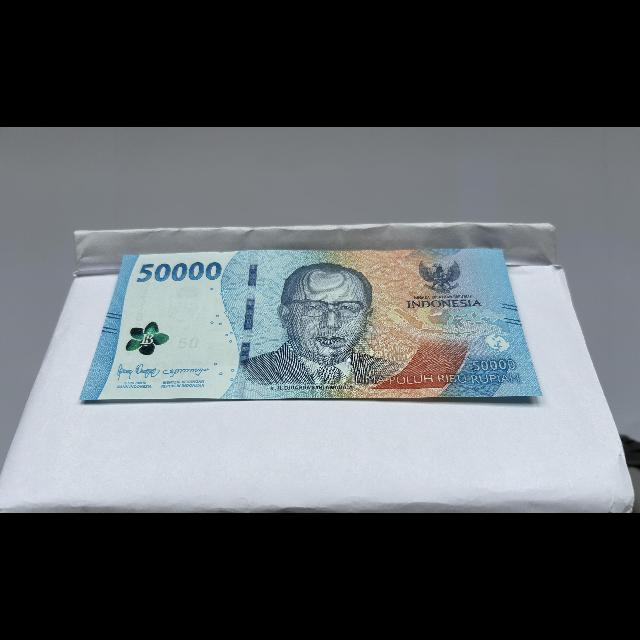Asli-50k: (75, 247, 545, 405)
Tinta-Asli-50k: (122, 314, 175, 365)
